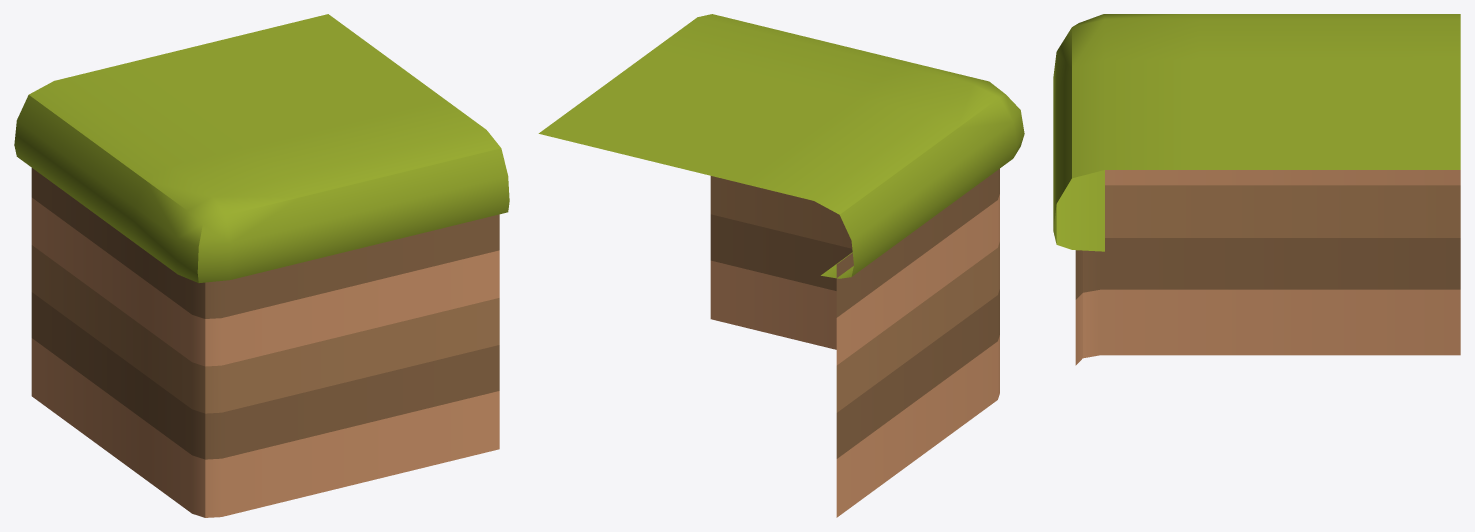
The model's file is Cube_Grass_Corner_Tall.gltf.
3 views of the same model, side by side, from view 1: azimuth 30°, elevation 25°; view 2: azimuth 150°, elevation 25°; view 3: azimuth 270°, elevation 25° (orthographic). The views are drawn at different scales.
Visible parts, largest first — view 1: Cube_Grass_Corner_Tall; view 2: Cube_Grass_Corner_Tall; view 3: Cube_Grass_Corner_Tall.
Boxes of the visible parts, x1,y1,x2,y2 form: Cube_Grass_Corner_Tall: (14,14,509,517); Cube_Grass_Corner_Tall: (538,14,1024,517); Cube_Grass_Corner_Tall: (1053,14,1460,365).
Size of the model in its own units: 2.12 by 2 by 2.12.
